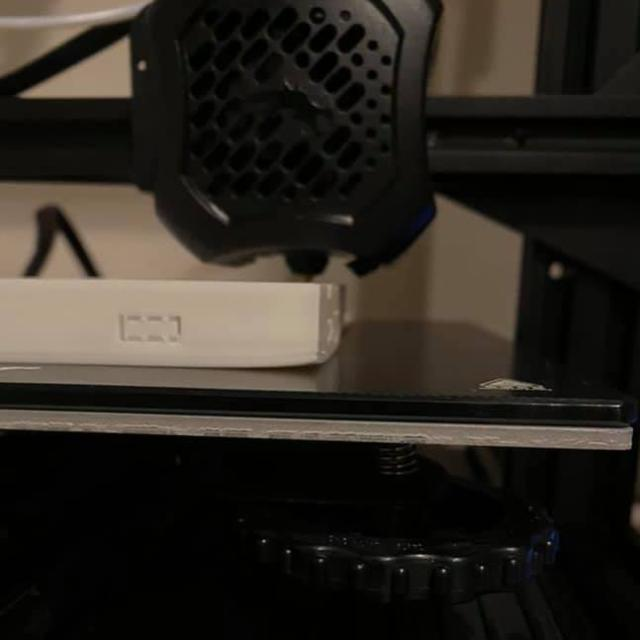warping: (267, 357, 325, 378)
